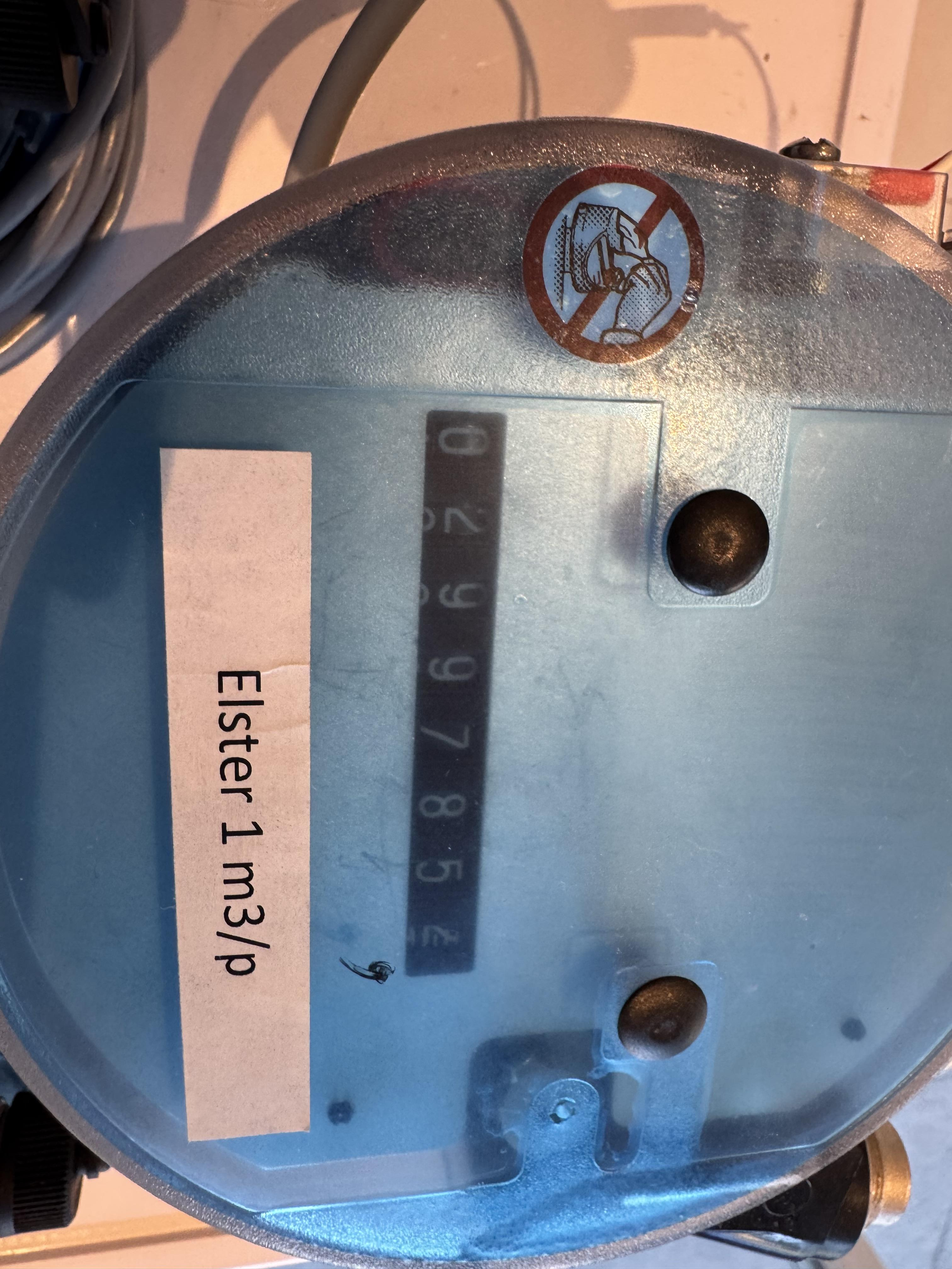analog_dial: (356, 403, 512, 988)
